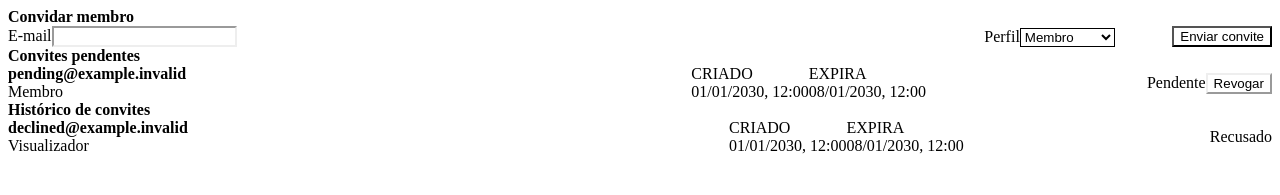
Scenario: ProjectMembersPanel › mostra histórico de convite e permite revogar somente estado pendente
The width and height of the screenshot is (1280, 195).
Expected: the text "pending@example.invalid" is shown, left=8, top=65, right=186, bottom=82
Expected: the text "Recusado" is shown, left=1210, top=128, right=1272, bottom=146
Click the button "Revogar". click: coordinates (1239, 83)
box: left=1206, top=72, right=1272, bottom=94
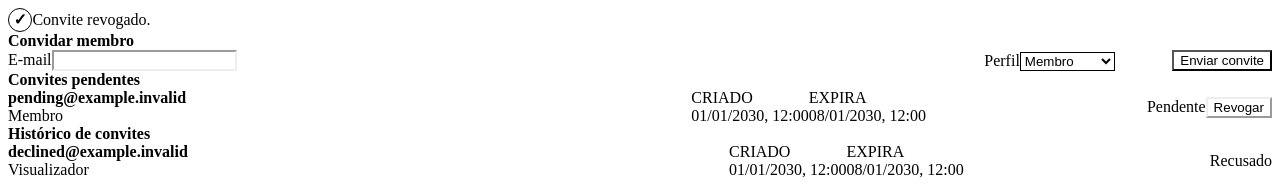
Expected: the text "Convite revogado." is shown, left=32, top=11, right=151, bottom=28
